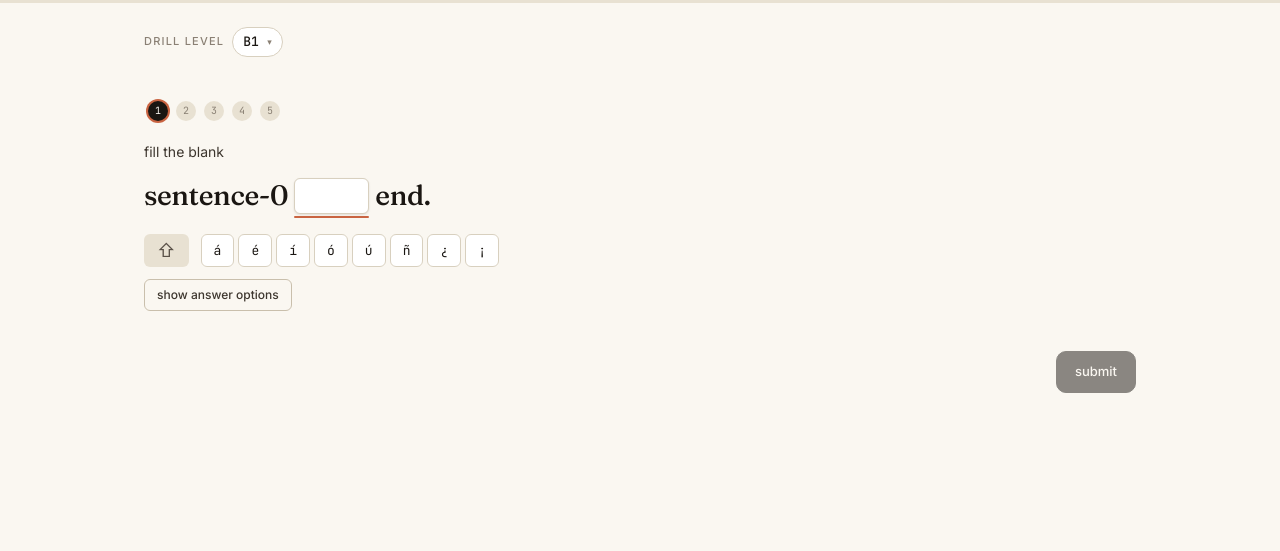
Test: PracticePage › per-item flow › submit item 0 → verdict shown; progress bar reflects evaluated state (1/5 = 20)
Type "middle" into the field at (332, 196), box [294,178,370,214]
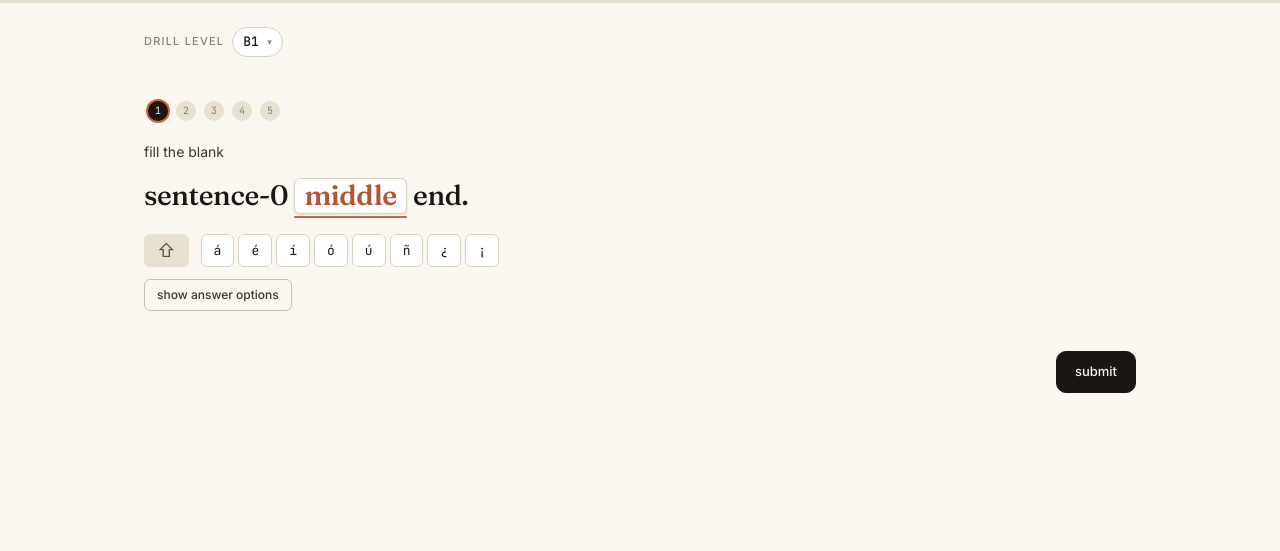
Click the button "submit" at (1096, 372), box [1056,351,1136,393]
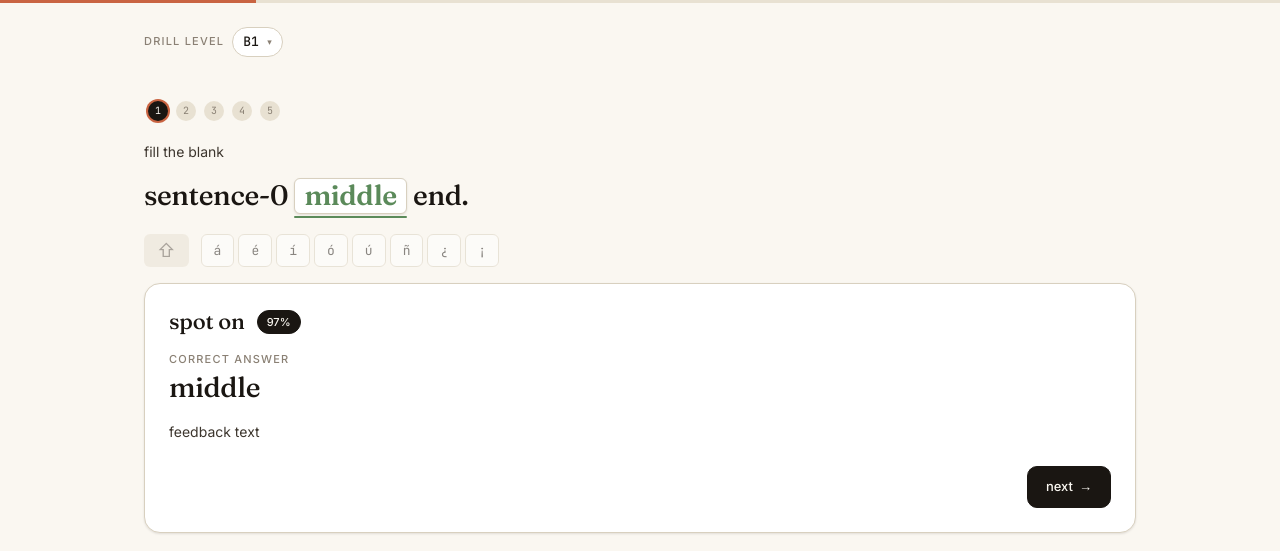
Expected: the heading "spot on" is shown, [169,308,245,336]
